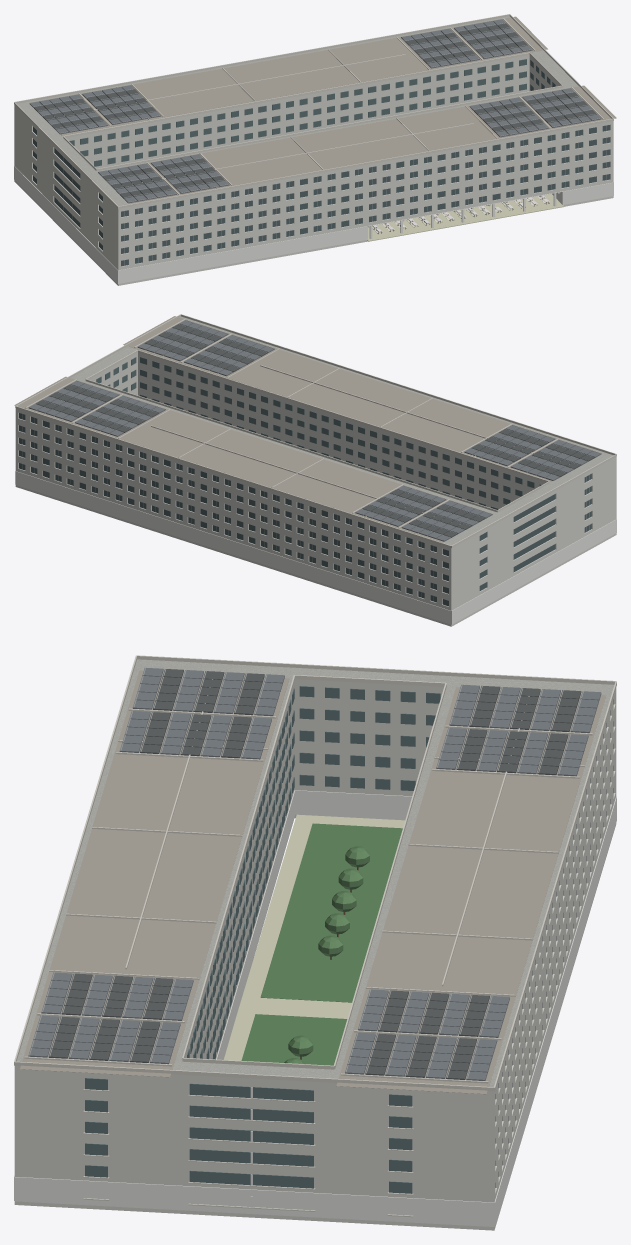
The model's file is chunk-dorm-relation-12774256.glb.
The picture shows the model from 3 angles, top to bottom: view 1: azimuth 30°, elevation 25°; view 2: azimuth 150°, elevation 25°; view 3: azimuth 270°, elevation 25°; orthographic projection. The views are drawn at different scales.
Parts seen in each view (by area): view 1: chunk-dorm-relation-12774256; view 2: chunk-dorm-relation-12774256; view 3: chunk-dorm-relation-12774256.
Boxes of the visible parts, bbox=[...] form: chunk-dorm-relation-12774256: bbox=[14, 14, 616, 285]; chunk-dorm-relation-12774256: bbox=[14, 314, 616, 626]; chunk-dorm-relation-12774256: bbox=[14, 655, 616, 1230].
Bounding box in the file's own units: 138 × 21.14 × 80.43.
24 materials, 3 textured.
